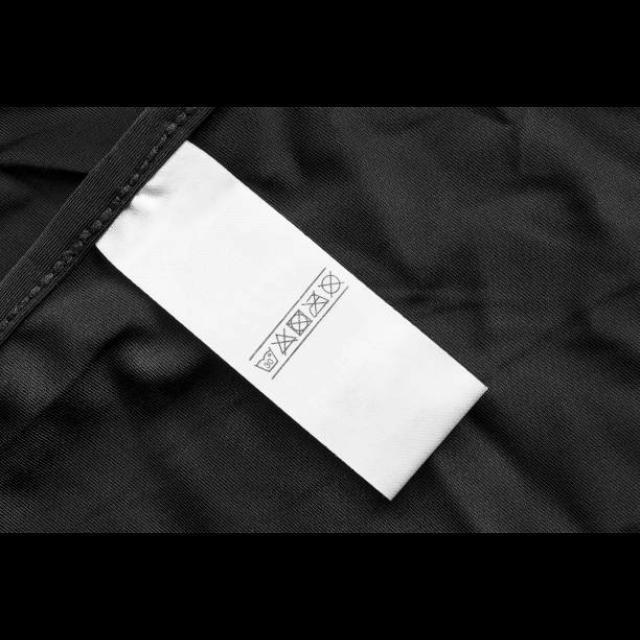30C: (252, 344, 282, 376)
DN_bleach: (270, 327, 300, 358)
DN_dry_clean: (316, 269, 346, 299)
DN_iron: (298, 289, 332, 319)
DN_tumble_dry: (284, 308, 314, 338)
